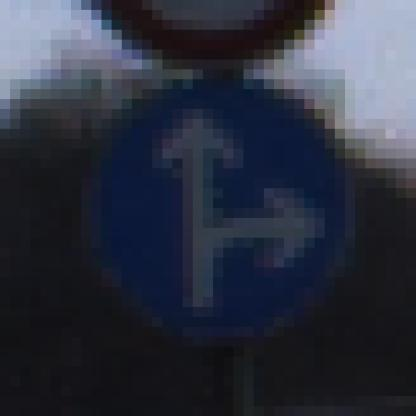Straight or Right: (52, 61, 366, 368)
